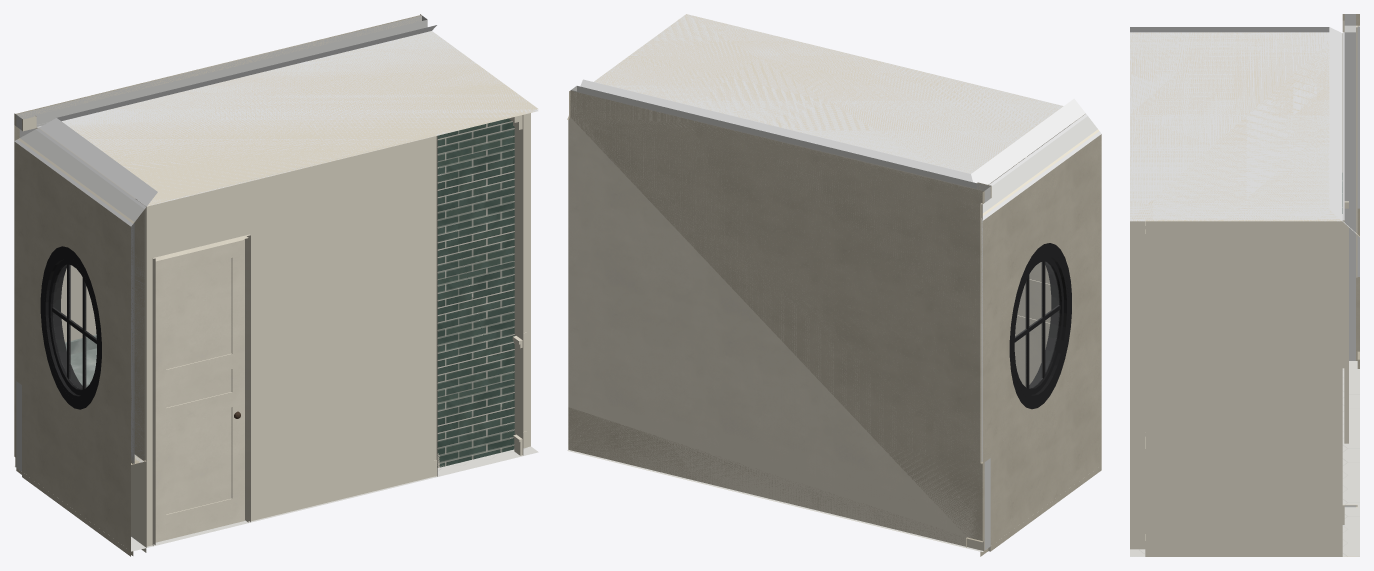
File: green-bath-687357917aff.glb
3 views of the same model, side by side, from view 1: azimuth 30°, elevation 25°; view 2: azimuth 150°, elevation 25°; view 3: azimuth 270°, elevation 25° (orthographic). The views are drawn at different scales.
Parts seen in each view (by area): view 1: green-bath-b6ab44e8ab2b63f4, green-bath-e8793759323e04f0, green-bath-9d91b47435c6fb33, green-bath-235bf0030923b7b8, green-bath-5e646f76b0244fe8, green-bath-312b4ac1be39223d, green-bath-33ee0b466567e5f0, green-bath-45debf23193247f8, green-bath-9a6873bb27e0e1d8, green-bath-8d8280a2b3ef8b4c, green-bath-3a4d9d62ecd7be1c, green-bath-39b94aca90fa4b53 (+6 smaller); view 2: green-bath-bd62734a7bc60eb7, green-bath-ca9c0b57f88e5741, green-bath-9d91b47435c6fb33, green-bath-e8793759323e04f0, green-bath-312b4ac1be39223d, green-bath-33ee0b466567e5f0, green-bath-45debf23193247f8, green-bath-9a6873bb27e0e1d8, green-bath-5e646f76b0244fe8, green-bath-39b94aca90fa4b53, green-bath-6ffca0ecbe7bb20f; view 3: green-bath-4fe5579be934d30a, green-bath-9d91b47435c6fb33, green-bath-e8793759323e04f0, green-bath-689020e0fc226264, green-bath-6ffca0ecbe7bb20f, green-bath-39b94aca90fa4b53, green-bath-7261ca91c9d343ad, green-bath-9a6873bb27e0e1d8, green-bath-82fe871d7bda5383, green-bath-312b4ac1be39223d, green-bath-6852ef8a5e690845, green-bath-bd62734a7bc60eb7 (+1 smaller).
Part boxes in pixels (x1=…): green-bath-b6ab44e8ab2b63f4: x1=138, y1=136, x2=437, y2=547; green-bath-e8793759323e04f0: x1=42, y1=25, x2=537, y2=204; green-bath-9d91b47435c6fb33: x1=39, y1=31, x2=537, y2=206; green-bath-235bf0030923b7b8: x1=437, y1=118, x2=513, y2=467; green-bath-5e646f76b0244fe8: x1=155, y1=239, x2=244, y2=542; green-bath-312b4ac1be39223d: x1=14, y1=125, x2=133, y2=464; green-bath-33ee0b466567e5f0: x1=22, y1=386, x2=146, y2=556; green-bath-45debf23193247f8: x1=40, y1=246, x2=101, y2=409; green-bath-9a6873bb27e0e1d8: x1=16, y1=15, x2=427, y2=471; green-bath-8d8280a2b3ef8b4c: x1=515, y1=109, x2=538, y2=455; green-bath-3a4d9d62ecd7be1c: x1=35, y1=127, x2=146, y2=461; green-bath-39b94aca90fa4b53: x1=19, y1=128, x2=144, y2=463; green-bath-bd62734a7bc60eb7: x1=567, y1=91, x2=983, y2=547; green-bath-ca9c0b57f88e5741: x1=568, y1=90, x2=984, y2=550; green-bath-9d91b47435c6fb33: x1=594, y1=14, x2=1085, y2=184; green-bath-e8793759323e04f0: x1=580, y1=14, x2=1083, y2=183; green-bath-312b4ac1be39223d: x1=981, y1=131, x2=1101, y2=463; green-bath-33ee0b466567e5f0: x1=988, y1=377, x2=1101, y2=551; green-bath-45debf23193247f8: x1=1009, y1=243, x2=1071, y2=409; green-bath-9a6873bb27e0e1d8: x1=571, y1=86, x2=990, y2=550; green-bath-5e646f76b0244fe8: x1=988, y1=163, x2=1051, y2=386; green-bath-39b94aca90fa4b53: x1=982, y1=116, x2=1097, y2=213; green-bath-6ffca0ecbe7bb20f: x1=567, y1=450, x2=983, y2=551; green-bath-4fe5579be934d30a: x1=1145, y1=214, x2=1342, y2=556; green-bath-9d91b47435c6fb33: x1=1130, y1=32, x2=1342, y2=221; green-bath-e8793759323e04f0: x1=1130, y1=27, x2=1340, y2=219; green-bath-689020e0fc226264: x1=1130, y1=221, x2=1145, y2=549; green-bath-6ffca0ecbe7bb20f: x1=1130, y1=361, x2=1359, y2=556; green-bath-39b94aca90fa4b53: x1=1344, y1=28, x2=1355, y2=282; green-bath-7261ca91c9d343ad: x1=1344, y1=201, x2=1348, y2=443; green-bath-9a6873bb27e0e1d8: x1=1344, y1=14, x2=1355, y2=556; green-bath-82fe871d7bda5383: x1=1342, y1=14, x2=1344, y2=556; green-bath-312b4ac1be39223d: x1=1357, y1=26, x2=1359, y2=276; green-bath-6852ef8a5e690845: x1=1356, y1=27, x2=1357, y2=277; green-bath-bd62734a7bc60eb7: x1=1357, y1=14, x2=1359, y2=368.
Bounding box in the file's own units: 3.62 × 3.04 × 1.8.
27 materials, 6 textured.
